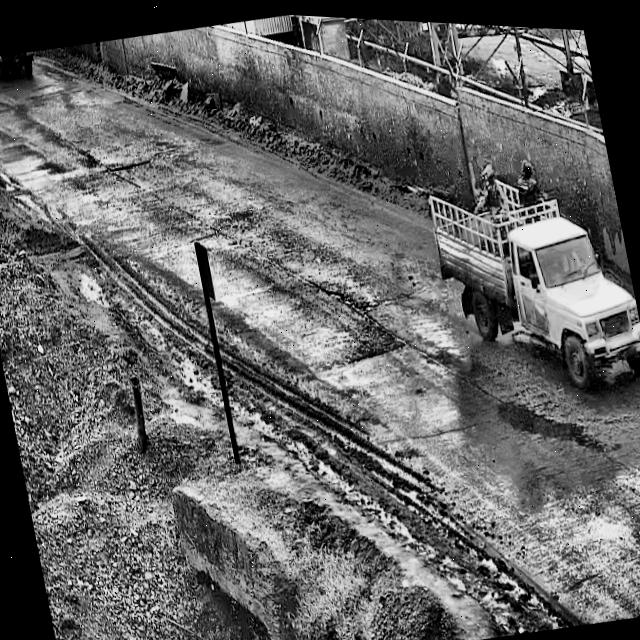dump_truck: (0, 49, 42, 89)
light_vehicle: (414, 133, 640, 426)
